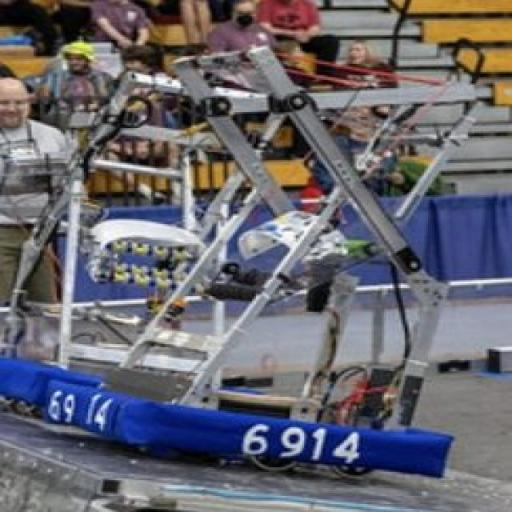robot: (6, 0, 512, 479), (0, 44, 246, 402)
